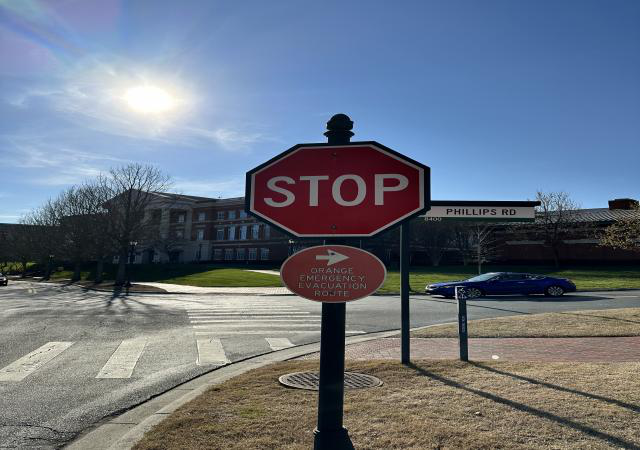not_stop: (282, 247, 388, 303)
stop: (244, 143, 432, 237)
